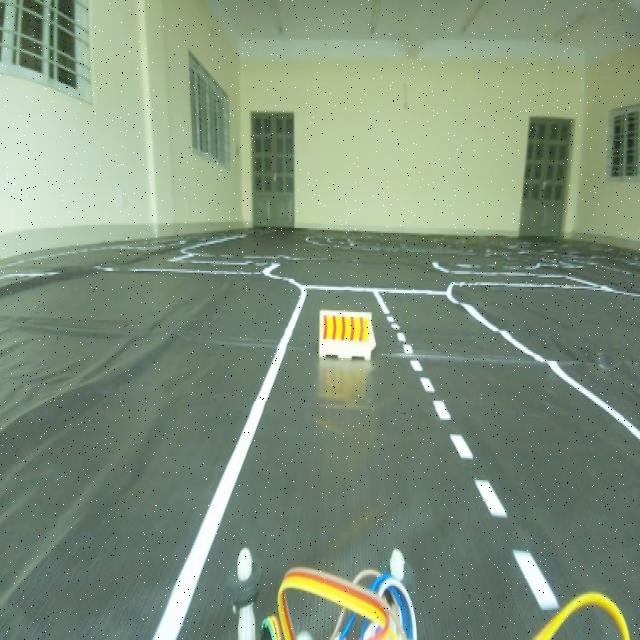roadblock: (316, 298, 377, 369)
